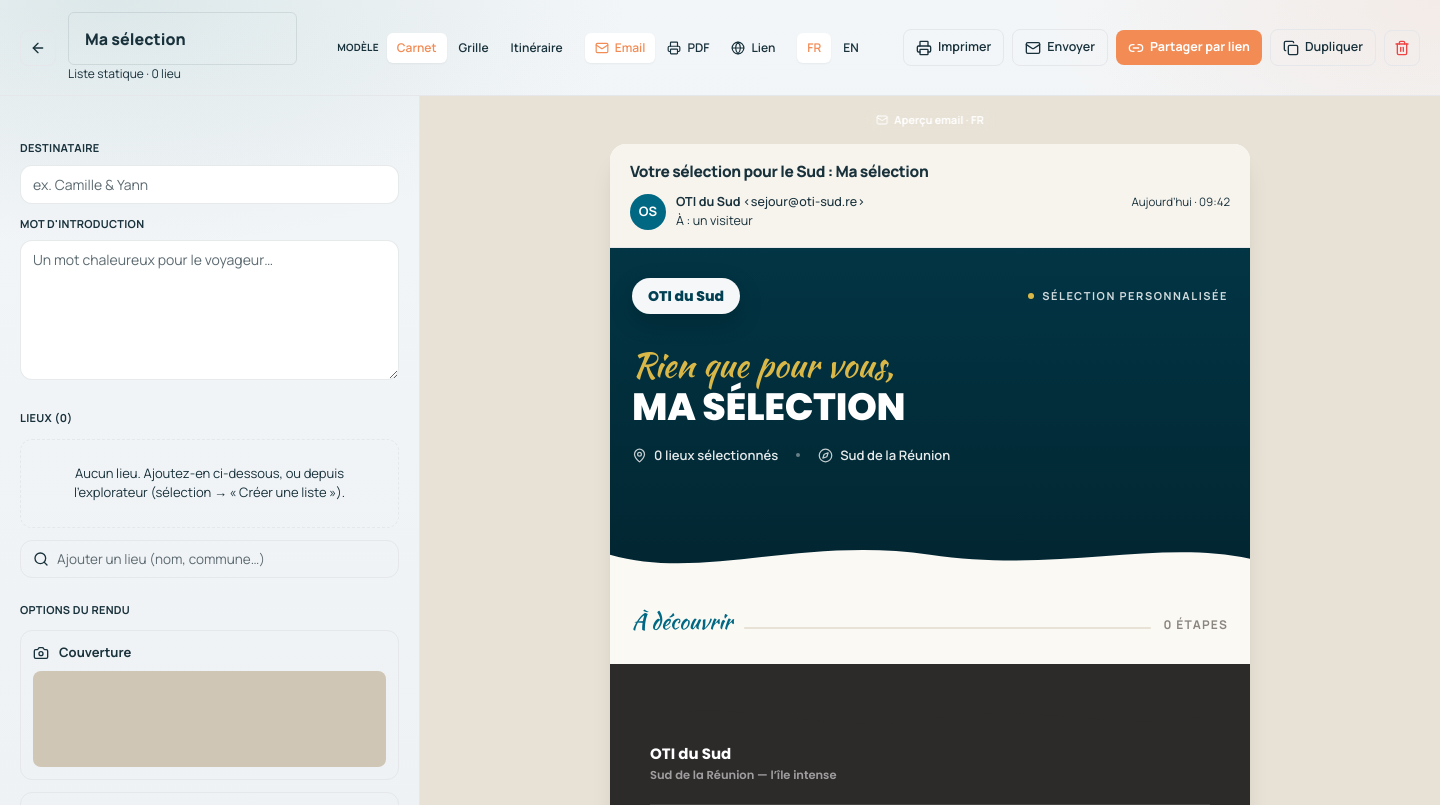
Test: ListComposeView — envoi et sauvegarde confirmée (MET-02) › après un envoi SMTP accepté dont le marquage échoue : un seul envoi, avertissement fidèle, pas de renvoi auto
The width and height of the screenshot is (1440, 805).
Click the button "Envoyer": (1060,48) 1012,29 -> 1108,66
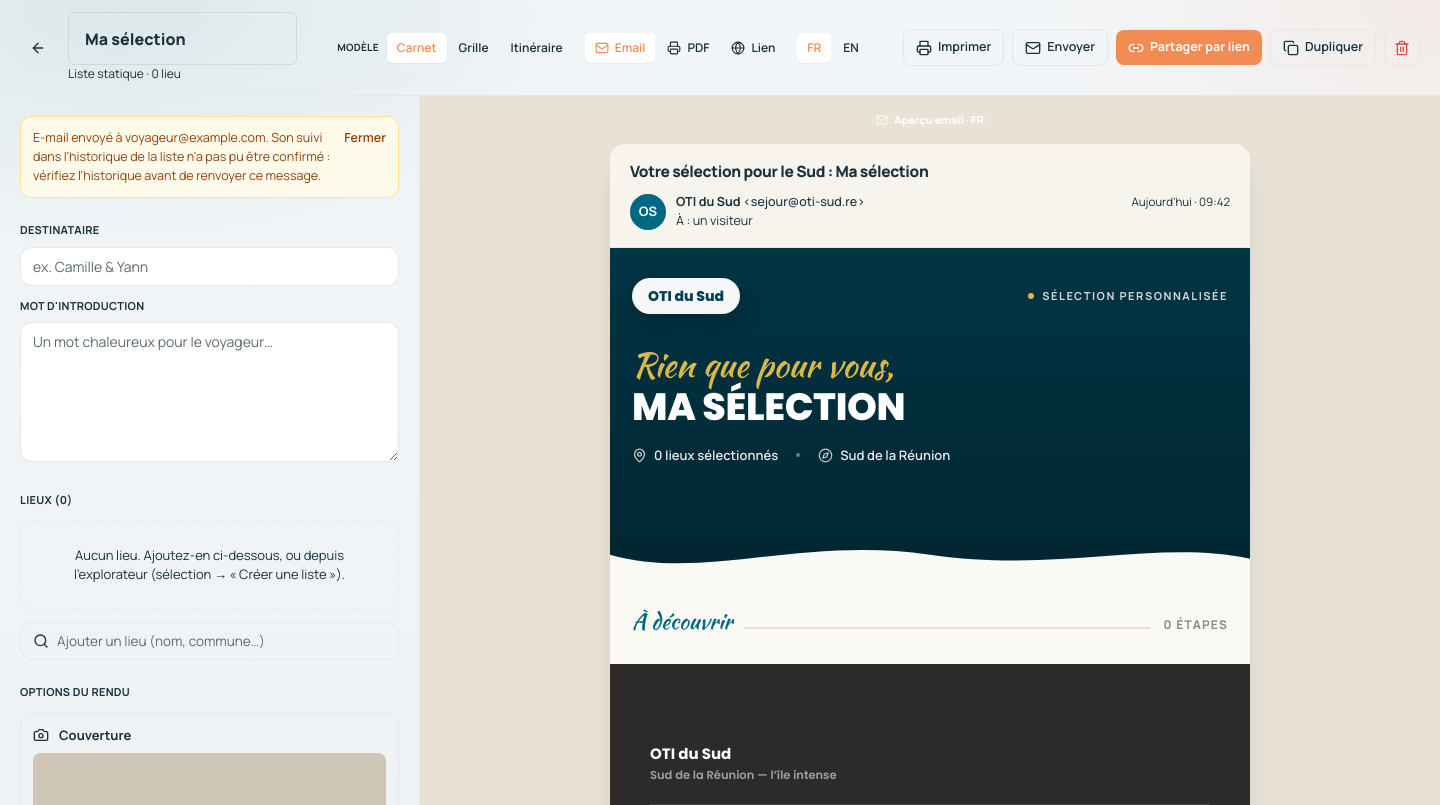
Expected: the message shows "voyageur@example.com", 33,129 -> 330,184
Expected: the message shows "historique", 33,129 -> 330,184
